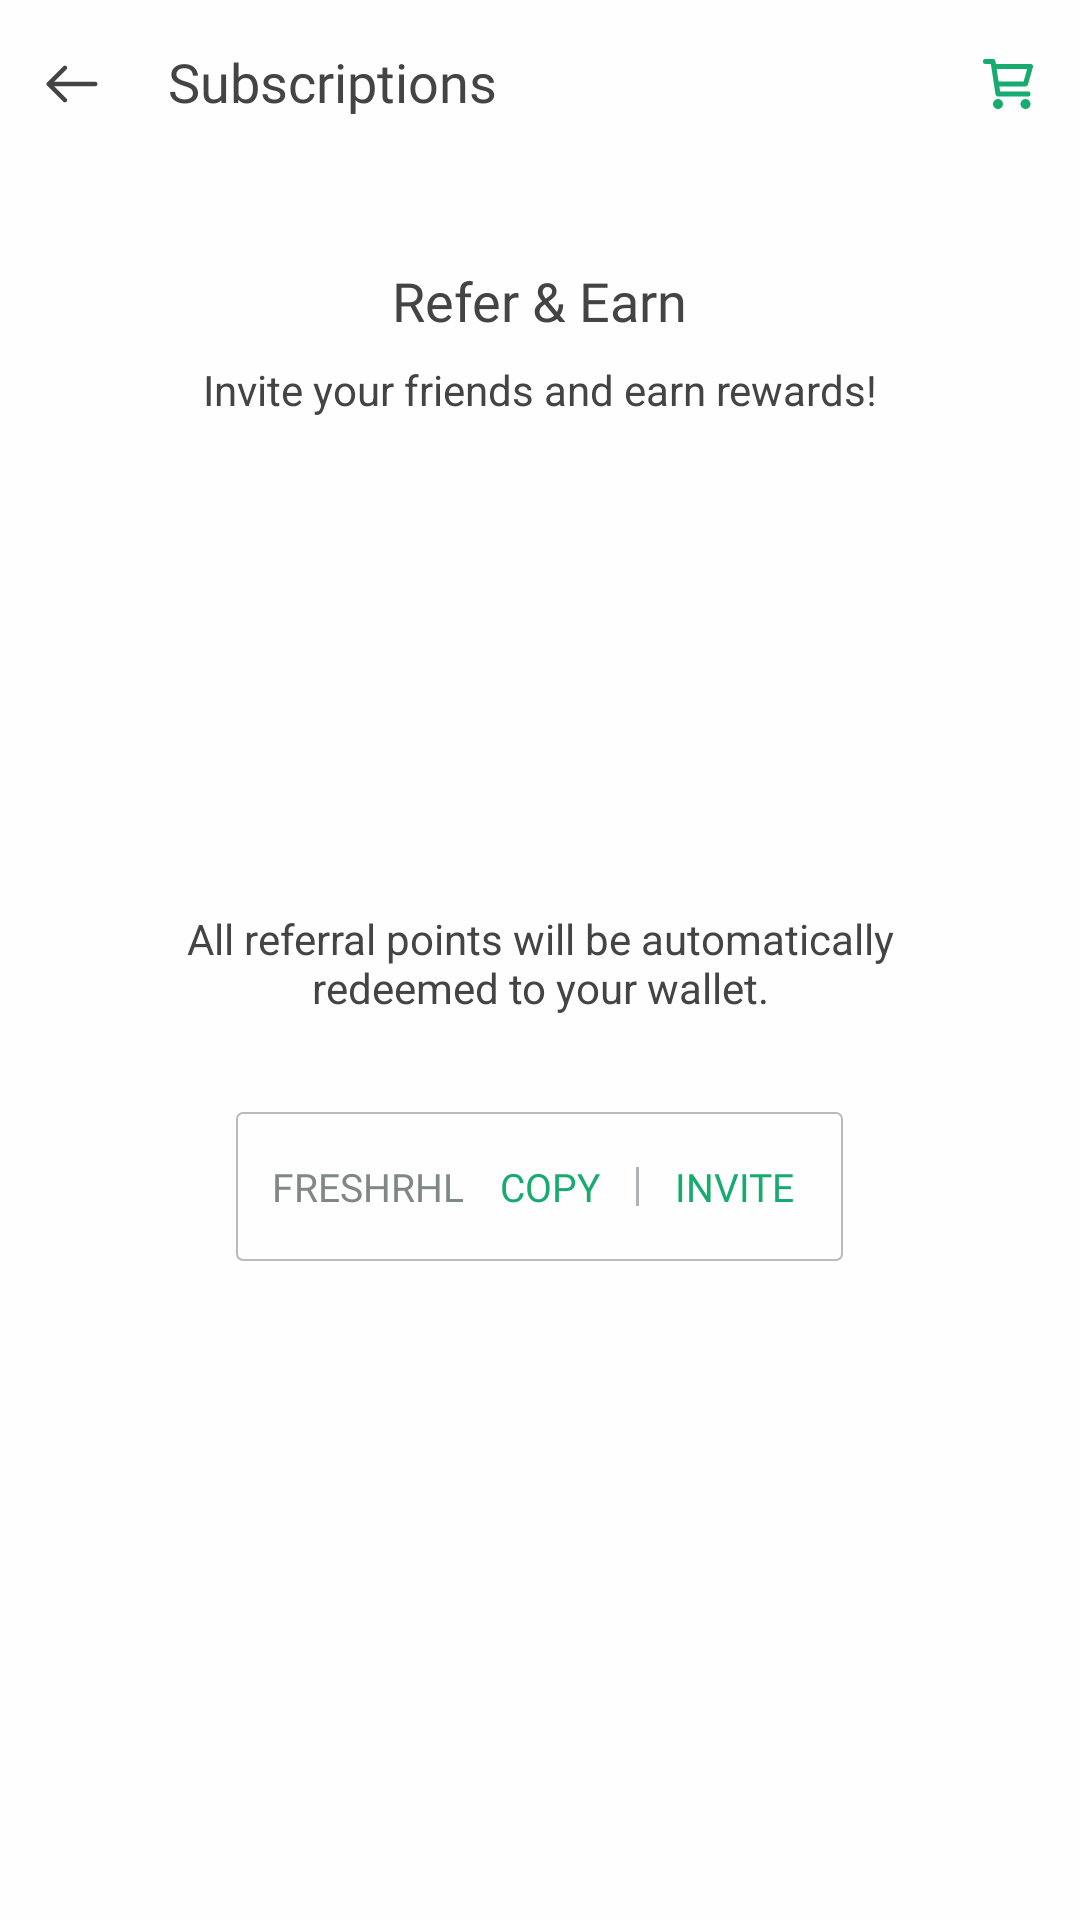

Screen size 1080 × 1920. Icon name, then its center in pixels as (x,y):
Back Button: (72,84)
Cart Icon: (1008,84)
